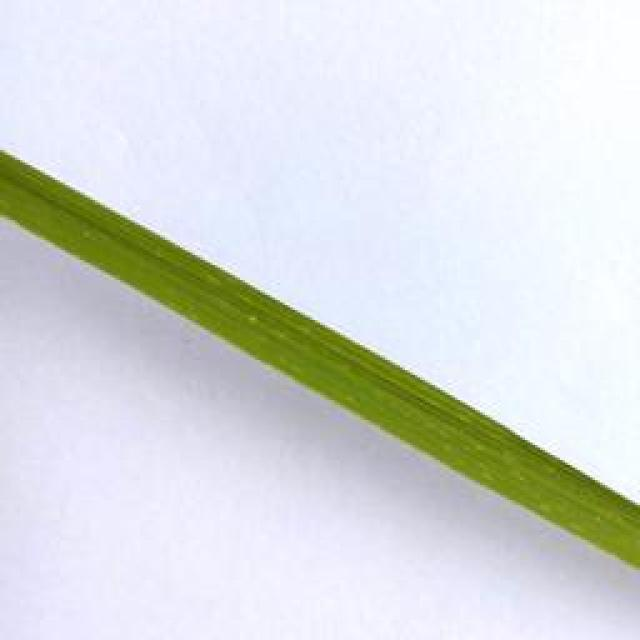Healthy-Plant: (0, 144, 640, 575)
